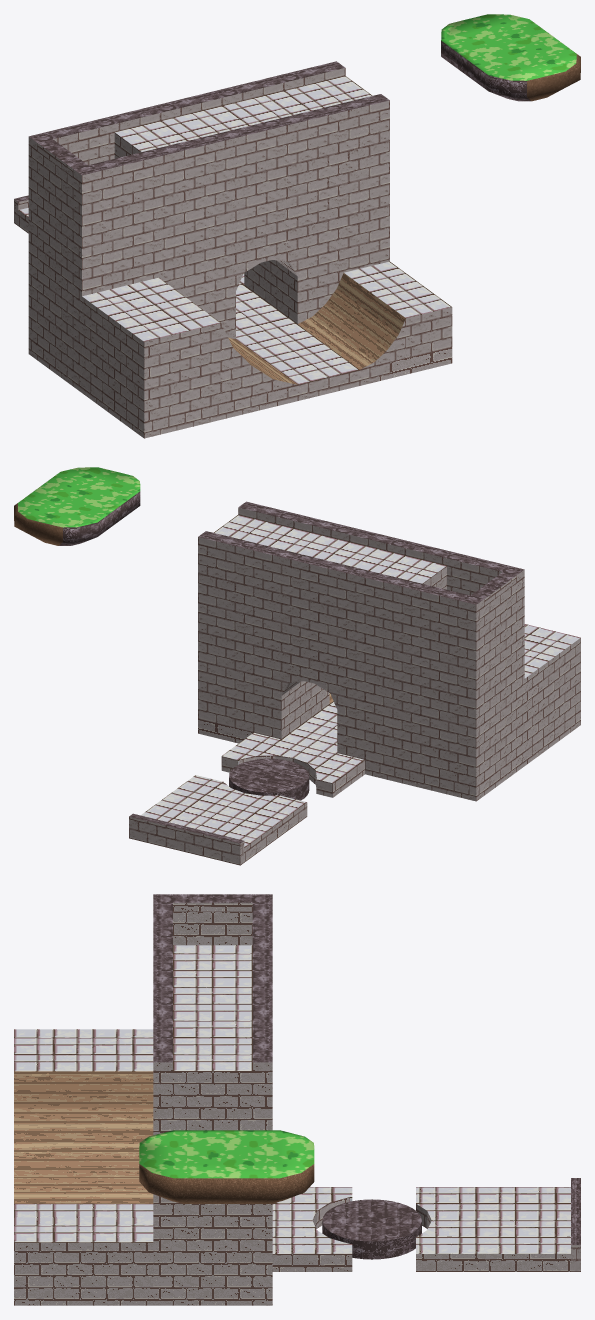
File: three_perspectives.glb
3 renders of one model, top to bottom at view 1: azimuth 30°, elevation 25°; view 2: azimuth 150°, elevation 25°; view 3: azimuth 270°, elevation 25°, orthographic. The views are drawn at different scales.
Parts seen in each view (by area): view 1: Level-col; view 2: Level-col, SpinPlatform-col; view 3: Level-col, SpinPlatform-col.
Boxes of the visible parts, x1=… form: Level-col: x1=14, y1=14, x2=580, y2=438; Level-col: x1=14, y1=467, x2=580, y2=865; SpinPlatform-col: x1=229, y1=758, x2=309, y2=800; Level-col: x1=14, y1=894, x2=580, y2=1305; SpinPlatform-col: x1=322, y1=1199, x2=421, y2=1259.
Bounding box in the file's own units: 33 × 13.5 × 28.5.
6 materials, 6 textured.
